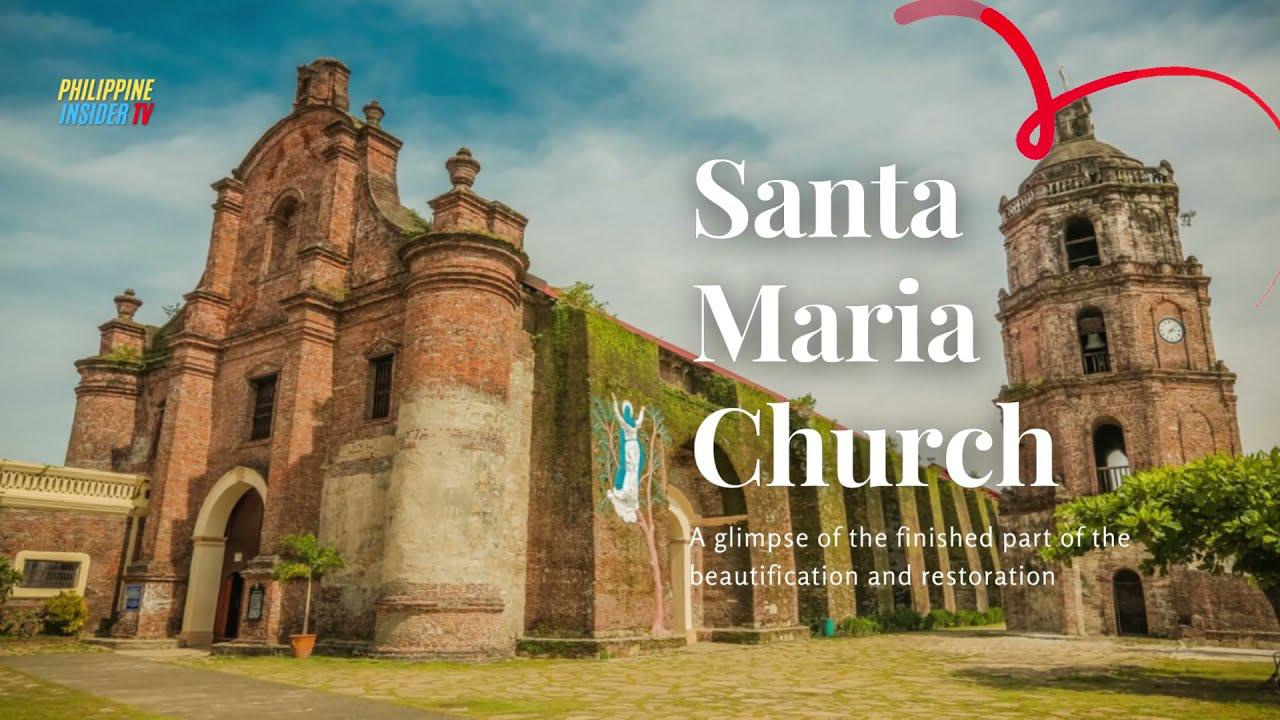santa_maria_church_santa_maria_ilocos_sur: (64, 49, 524, 675)
unfinished_paint: (310, 372, 540, 605)
water_damage_or_mold: (585, 314, 661, 367), (595, 371, 651, 404), (566, 413, 591, 468), (663, 390, 696, 431), (741, 385, 769, 413)
